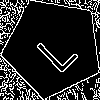L: (28, 23, 80, 75)
